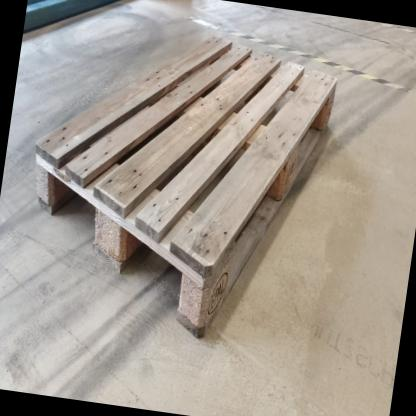BoxFace: (33, 26, 341, 346)
